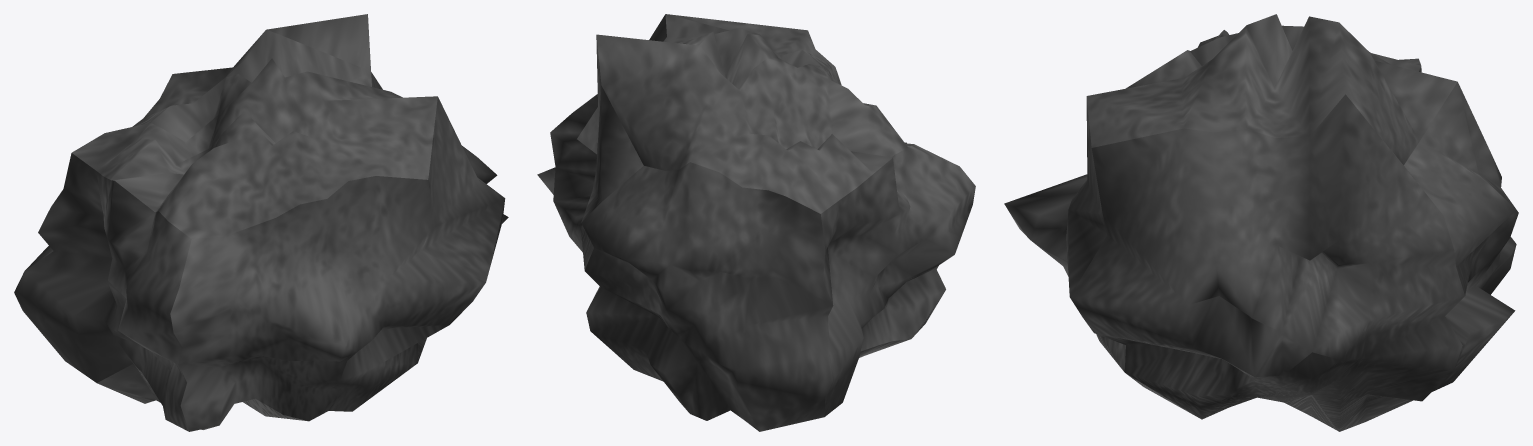
File: Asteroid.FBX
The picture shows the model from 3 angles, left to right: view 1: azimuth 30°, elevation 25°; view 2: azimuth 150°, elevation 25°; view 3: azimuth 270°, elevation 25°; orthographic projection. The views are drawn at different scales.
Parts seen in each view (by area): view 1: Box001; view 2: Box001; view 3: Box001.
Boxes of the visible parts, left/top/right/bottom form: Box001: left=14, top=14, right=508, bottom=431; Box001: left=537, top=14, right=975, bottom=431; Box001: left=1004, top=14, right=1518, bottom=431.
Bounding box in the file's own units: 123 × 104 × 116.
1 material, 1 textured.
